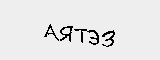А: (43, 23, 56, 42)
З: (101, 28, 115, 51)
Т: (73, 24, 89, 45)
Э: (86, 28, 100, 46)
Я: (57, 23, 75, 45)
